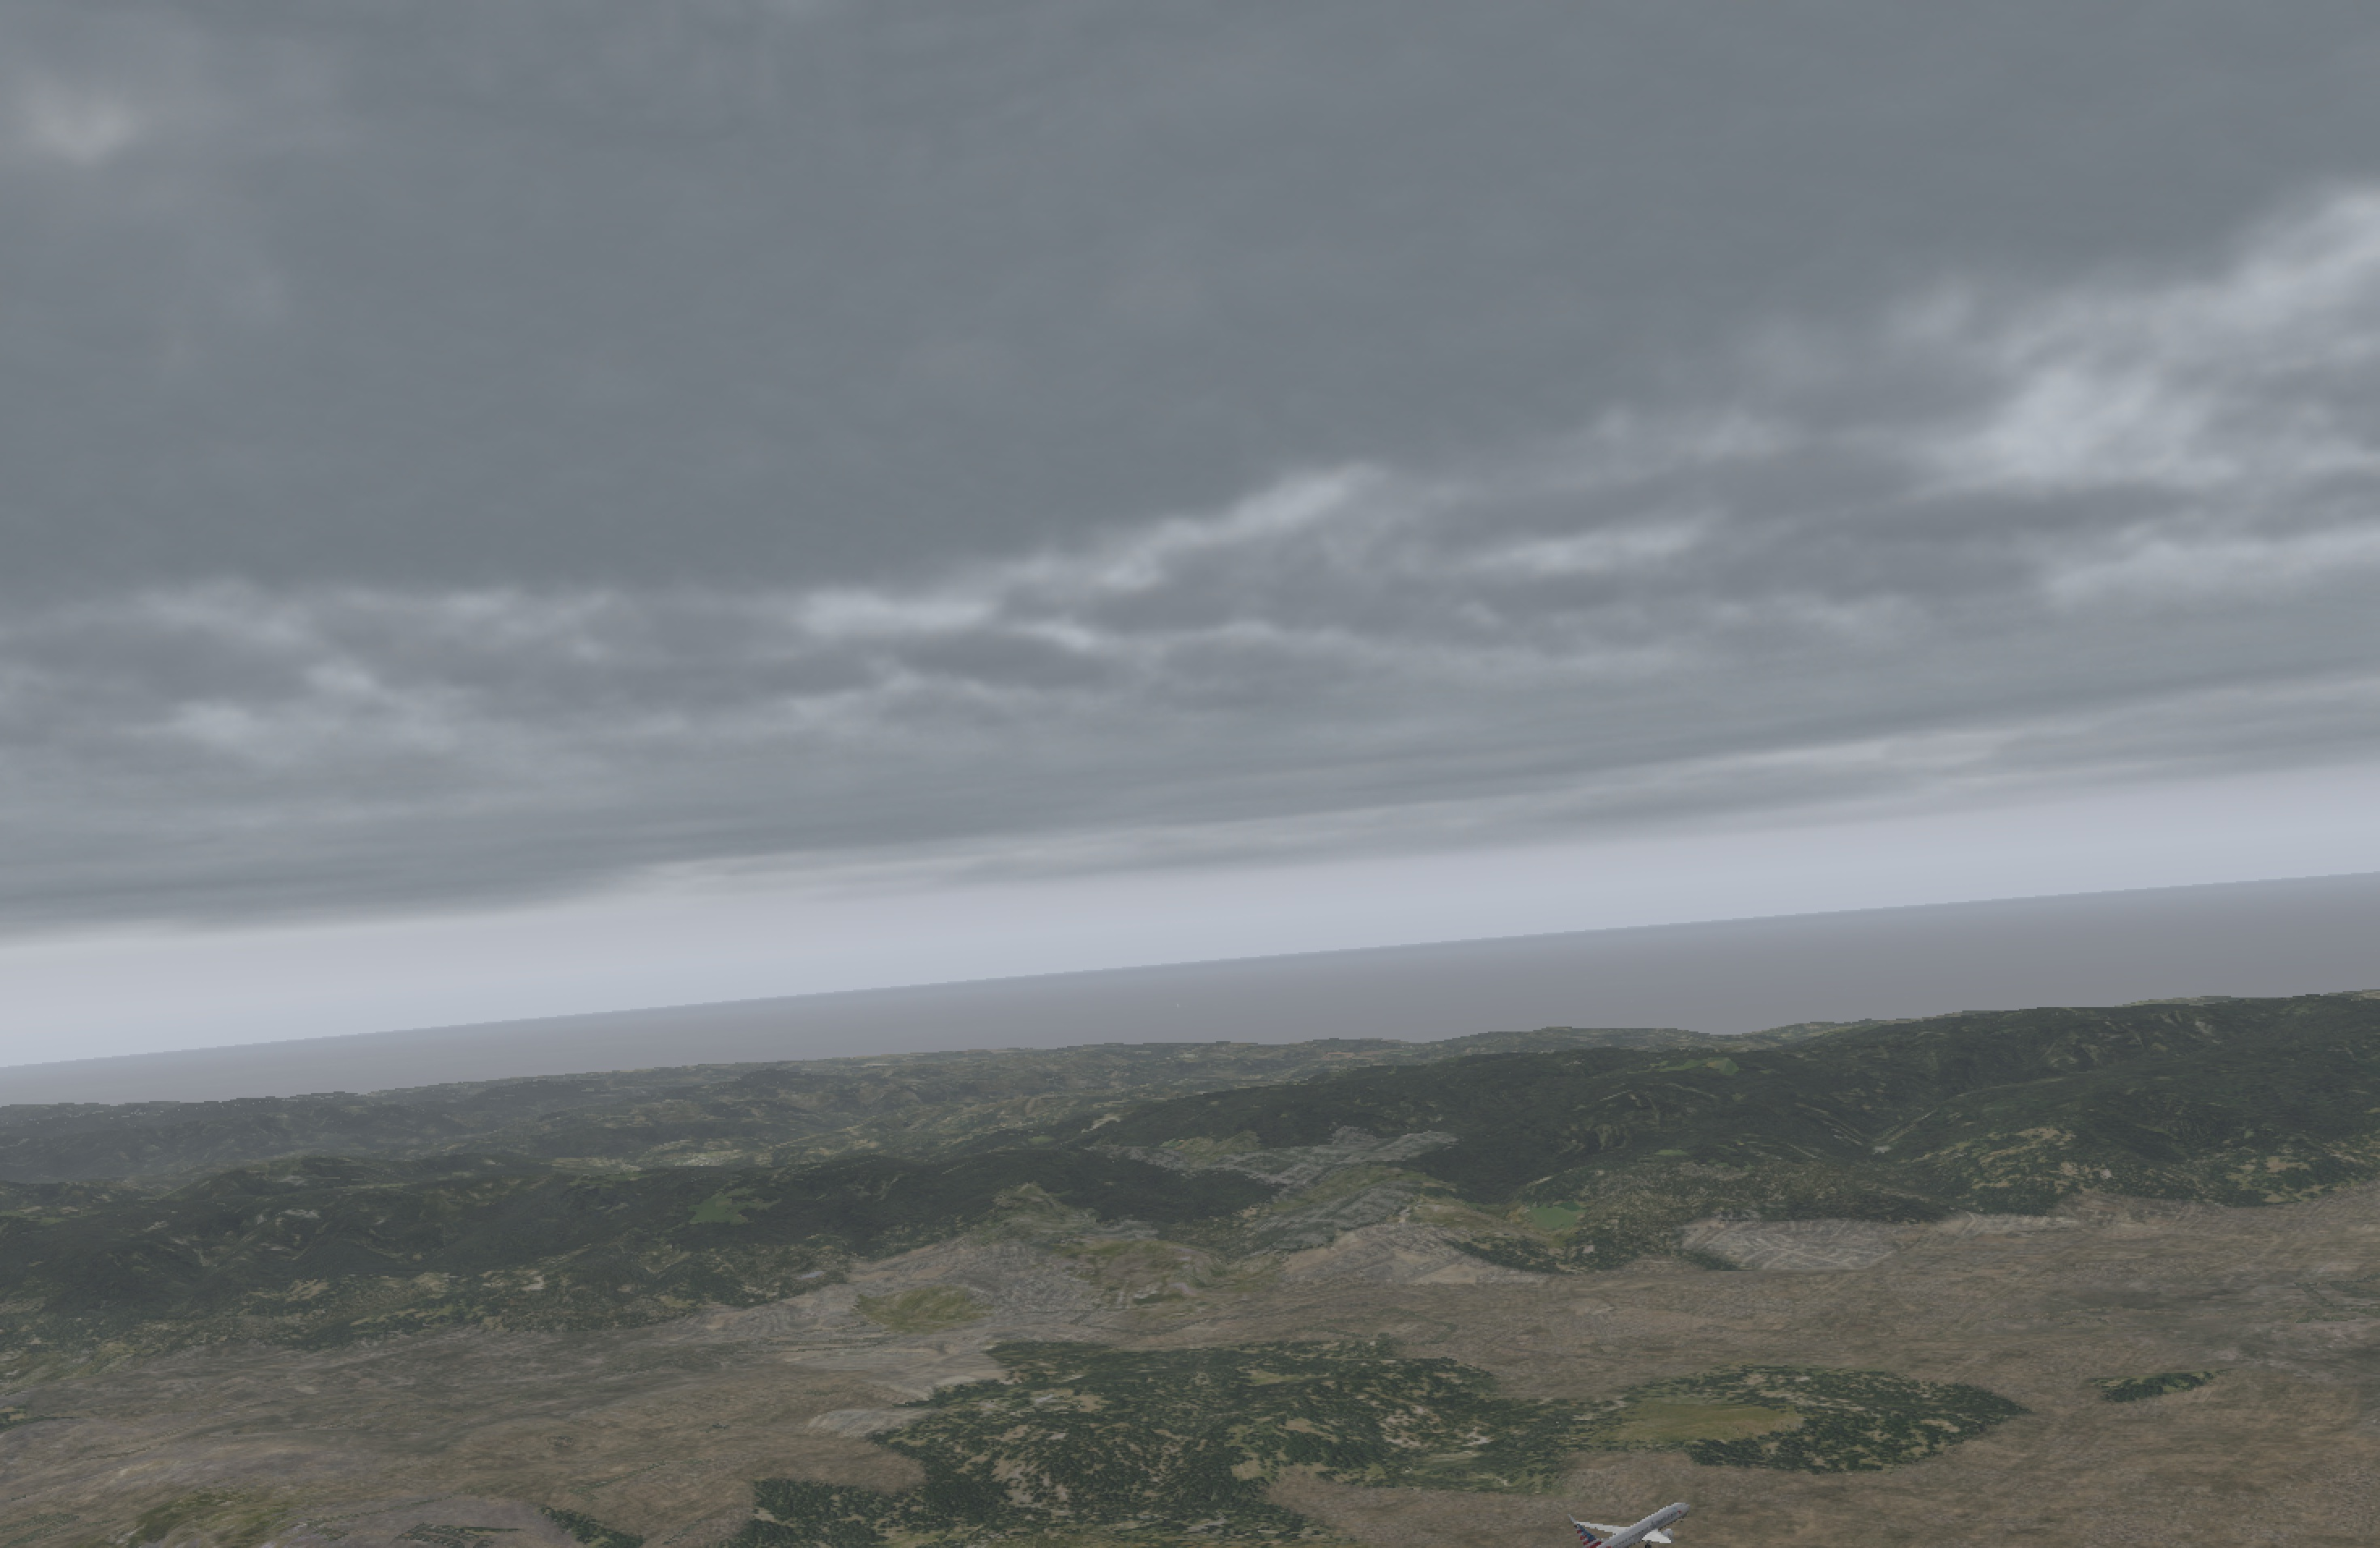aircraft: (1570, 1506, 1714, 1548)
